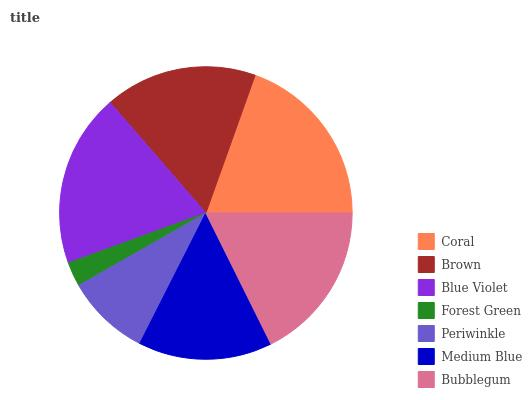legend: (403, 223, 532, 394)
sector: (59, 102, 206, 264), (111, 66, 257, 214), (203, 74, 353, 213), (138, 214, 271, 360), (204, 212, 351, 344), (80, 214, 202, 343), (68, 213, 201, 286)
